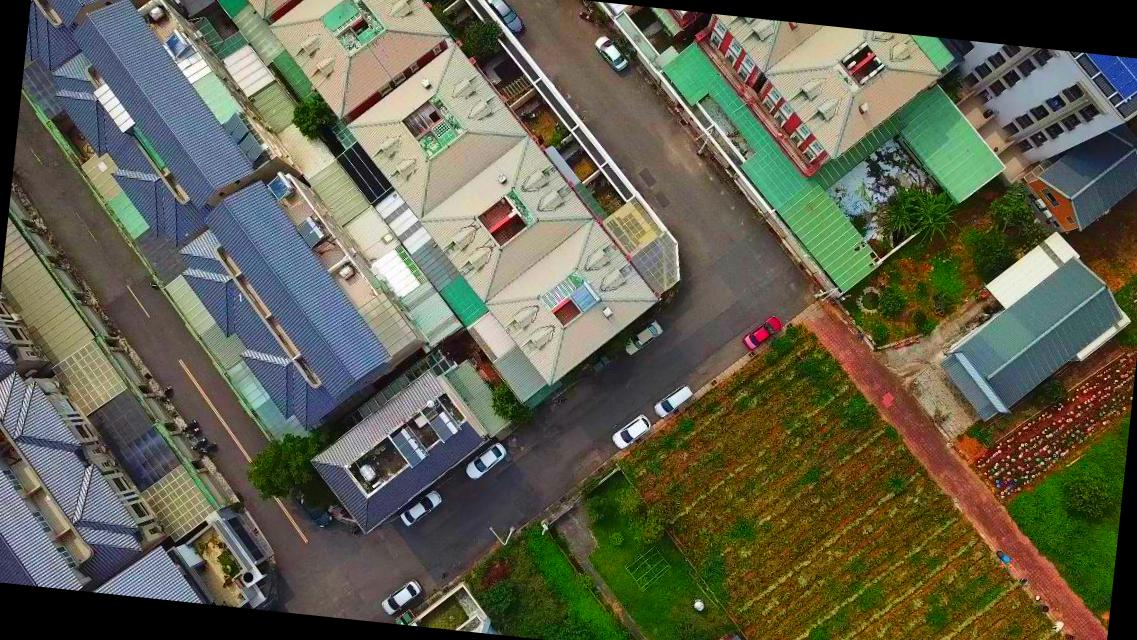vehicle: (289, 486, 337, 530), (464, 438, 509, 483), (398, 486, 444, 528), (741, 310, 784, 352), (652, 379, 692, 424), (622, 316, 663, 358), (608, 412, 650, 452), (380, 575, 422, 615)
